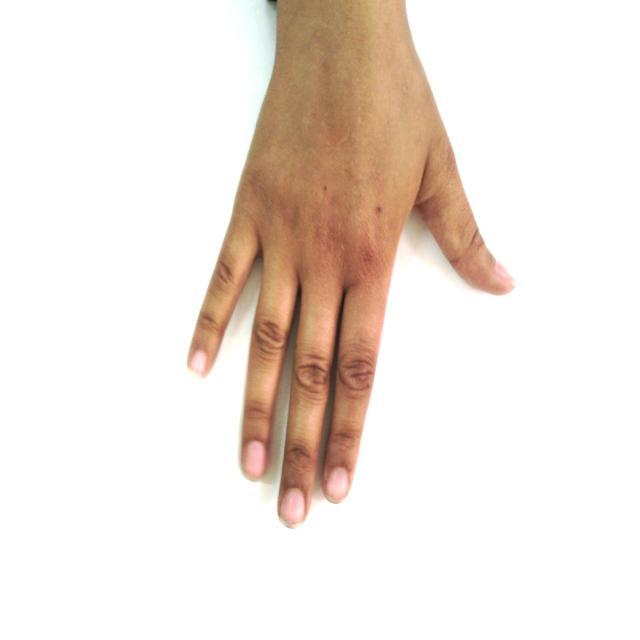Fingernail: (281, 488, 305, 525), (245, 441, 265, 478), (327, 467, 347, 501), (189, 350, 207, 376), (495, 262, 515, 285)
